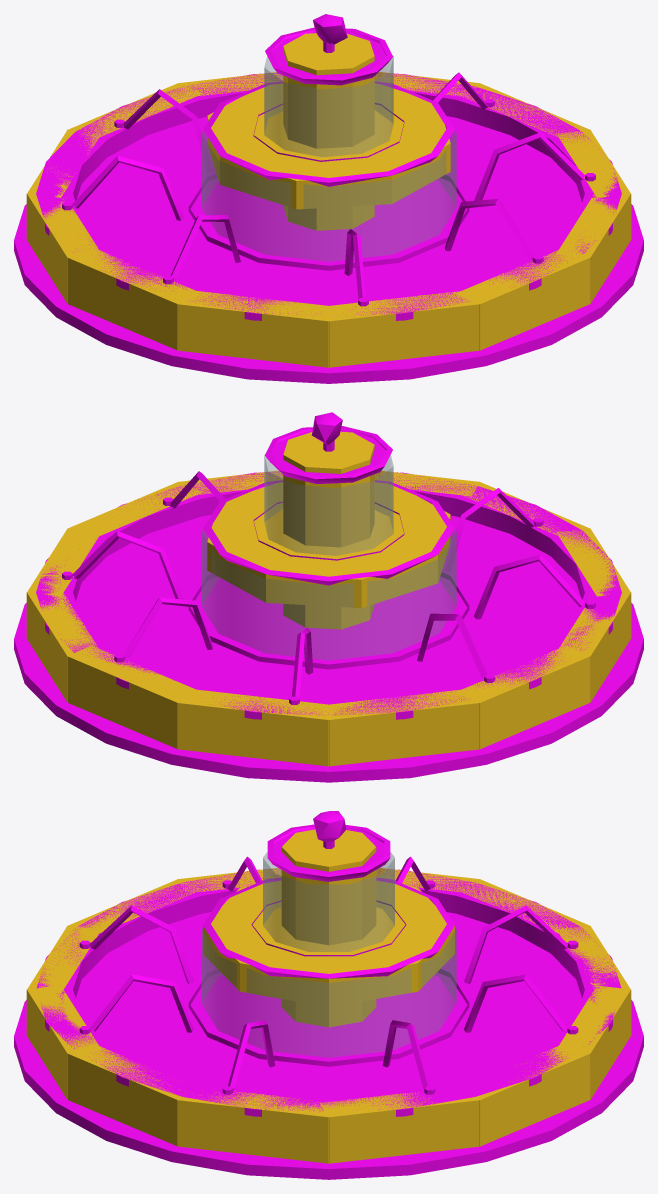
The model's file is lm_fountain.glb.
3 renders of one model, top to bottom at view 1: azimuth 30°, elevation 25°; view 2: azimuth 150°, elevation 25°; view 3: azimuth 270°, elevation 25°, orthographic.
Parts seen in each view (by area): view 1: lm_fountain__shell, lm_fountain__col; view 2: lm_fountain__shell, lm_fountain__col; view 3: lm_fountain__shell, lm_fountain__col.
Boxes of the visible parts, x1,y1,x2,y2 form: lm_fountain__shell: [14, 14, 643, 383]; lm_fountain__col: [26, 33, 631, 367]; lm_fountain__shell: [14, 412, 643, 782]; lm_fountain__col: [26, 431, 631, 766]; lm_fountain__shell: [14, 811, 643, 1179]; lm_fountain__col: [26, 829, 631, 1163].
Size of the model in its own units: 8 by 3.3 by 8.
Materials: 2 (1 with a texture image).
